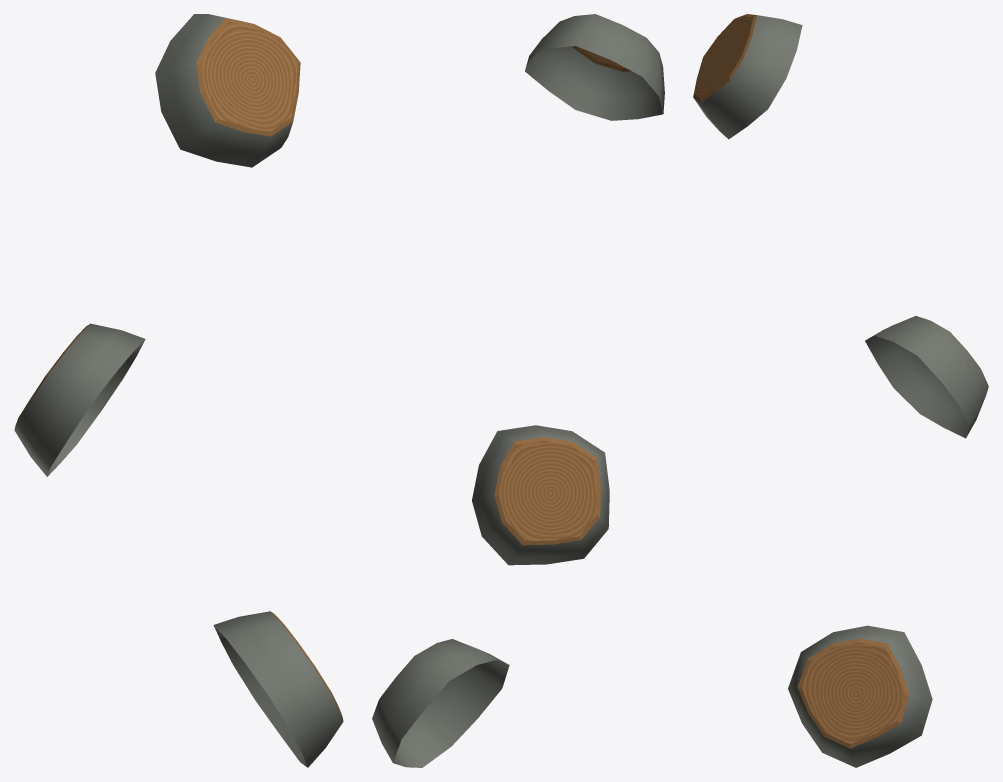
Rendered from Beech_Mature_02_LowPruned_Recent_LOD2.fbx.
3 renders of one model, left to right at view 1: azimuth 30°, elevation 25°; view 2: azimuth 150°, elevation 25°; view 3: azimuth 270°, elevation 25°, orthographic. The views are drawn at different scales.
Visible parts, largest first — view 1: Beech_Mature_02_LowPruned_Recent_LOD2_Scars; view 2: Beech_Mature_02_LowPruned_Recent_LOD2_Scars; view 3: Beech_Mature_02_LowPruned_Recent_LOD2_Scars.
Part boxes in pixels (x1,y1,x2,y2): Beech_Mature_02_LowPruned_Recent_LOD2_Scars: [14, 14, 343, 767]; Beech_Mature_02_LowPruned_Recent_LOD2_Scars: [372, 14, 664, 767]; Beech_Mature_02_LowPruned_Recent_LOD2_Scars: [693, 14, 988, 767].
Size of what is drawn, in the model's own units: 59.35 by 170 by 65.34.
2 materials, 2 textured.
